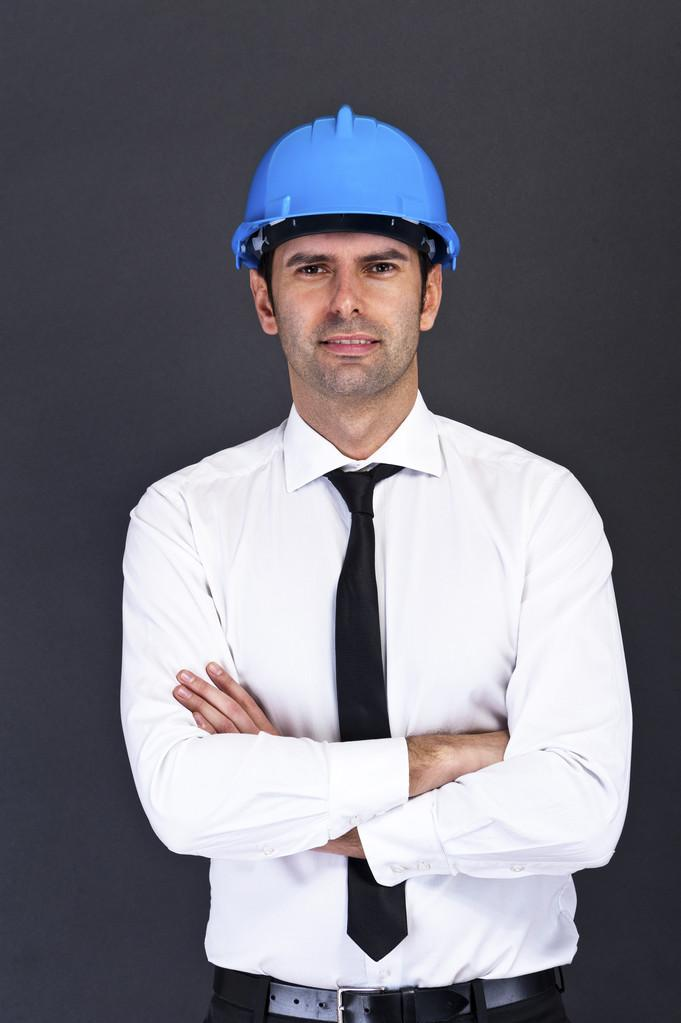helmet: (228, 107, 468, 267)
